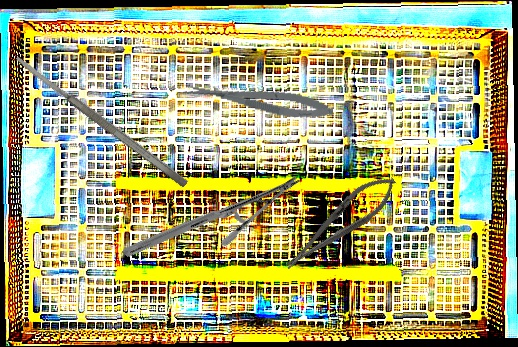Micro Scissor: (181, 74, 336, 125)
Needle Holder: (121, 121, 301, 312), (275, 166, 405, 280)
Spatula Surgical: (13, 52, 190, 190)
